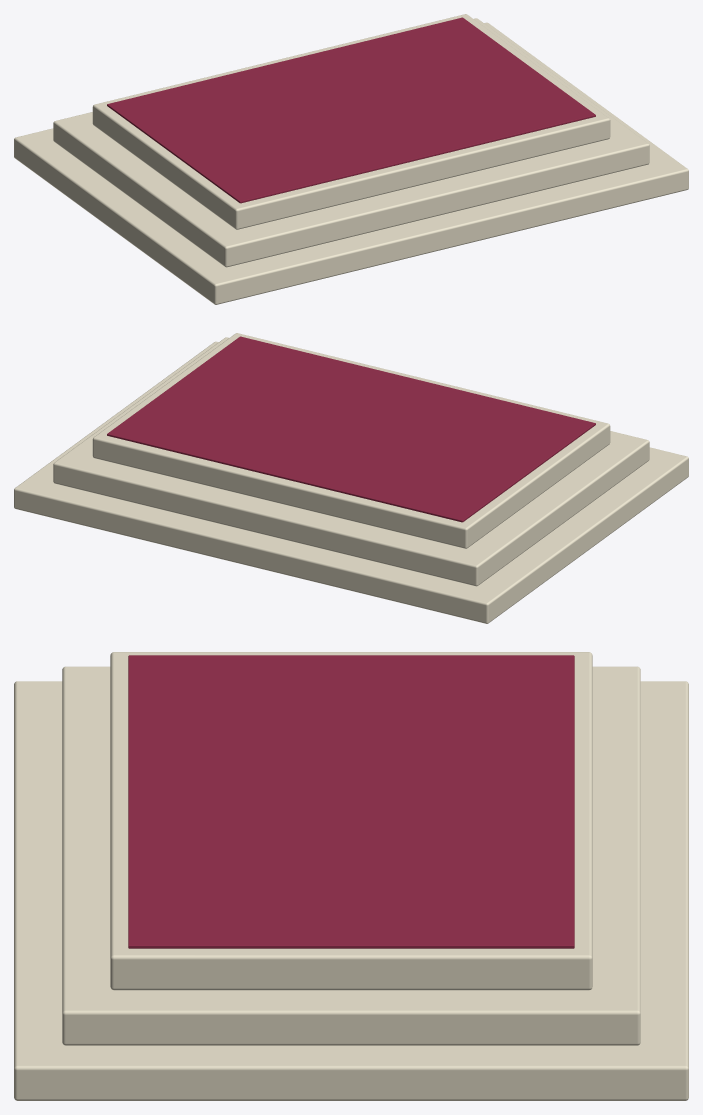
The model's file is royal-court-and-throne-palace-throne-dais-6a0689ea__29381.glb.
The picture shows the model from 3 angles, top to bottom: view 1: azimuth 30°, elevation 25°; view 2: azimuth 150°, elevation 25°; view 3: azimuth 270°, elevation 25°; orthographic projection. The views are drawn at different scales.
Parts seen in each view (by area): view 1: throne-dais; view 2: throne-dais; view 3: throne-dais.
Part boxes in pixels (x1,y1,x2,y2): throne-dais: (14, 14, 688, 304); throne-dais: (14, 333, 688, 623); throne-dais: (14, 652, 688, 1100).
Bounding box in the file's own units: 3.8 × 0.495 × 2.8.
